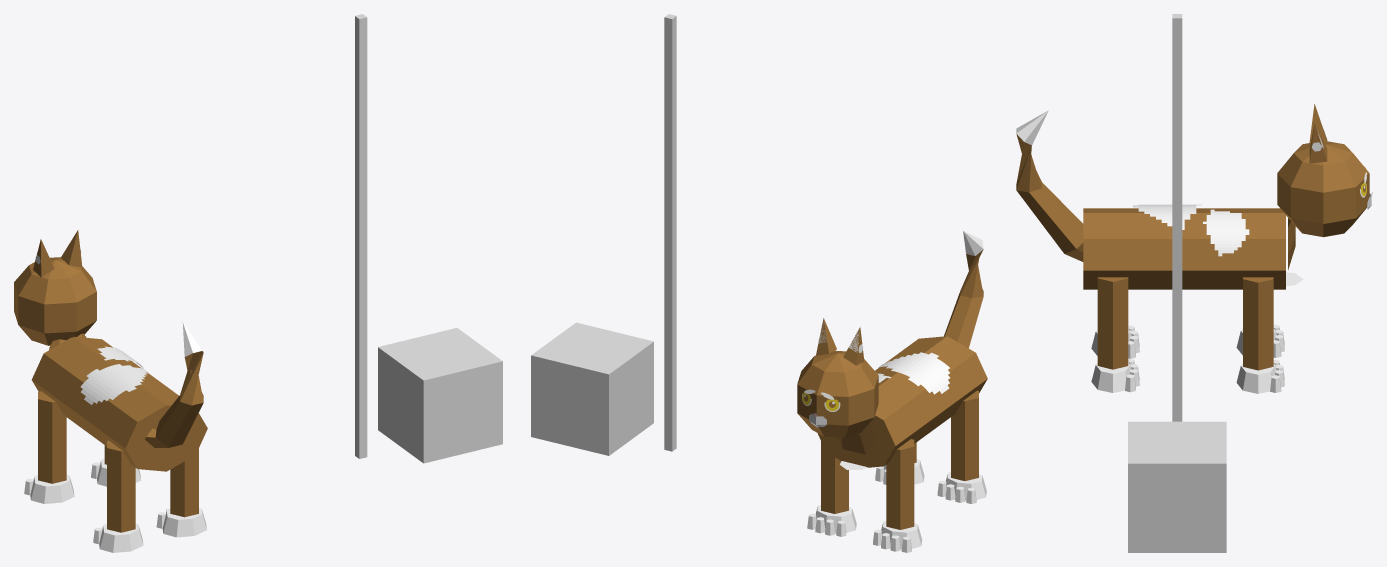
File: cat-brown_LOD0_roblox.fbx
3 views of the same model, side by side, from view 1: azimuth 30°, elevation 25°; view 2: azimuth 150°, elevation 25°; view 3: azimuth 270°, elevation 25° (orthographic). The views are drawn at different scales.
Visible parts, largest first — view 1: 1_Stud_Cube, Cat_BlackMat_body, 5.3_Stud_Height_Ruler, Cat_BlackMat_head, Cat_BlackMat_frontL_leg, Cat_BlackMat_backL_leg, Cat_BlackMat_tail, Cat_WhiteMat_spot_1, Cat_BlackMat_backR_leg, Cat_WhiteMat_backL_paw, Cat_WhiteMat_backR_paw, Cat_WhiteMat_frontL_paw; view 2: 1_Stud_Cube, Cat_BlackMat_body, 5.3_Stud_Height_Ruler, Cat_BlackMat_head, Cat_BlackMat_frontL_leg, Cat_BlackMat_backL_leg, Cat_BlackMat_tail, Cat_WhiteMat_spot_1, Cat_BlackMat_frontR_leg, Cat_WhiteMat_frontR_paw, Cat_WhiteMat_backL_paw, Cat_WhiteMat_frontL_paw (+1 smaller); view 3: Cat_BlackMat_body, 1_Stud_Cube, Cat_BlackMat_head, 5.3_Stud_Height_Ruler, Cat_BlackMat_tail, Cat_BlackMat_backR_leg, Cat_BlackMat_frontR_leg, Cat_WhiteMat_spot_2, Cat_WhiteMat_frontR_paw, Cat_WhiteMat_backR_paw, Cat_WhiteMat_spot_1, Cat_WhiteMat_tailTip (+3 smaller).
Boxes of the visible parts, x1,y1,x2,y2 form: 1_Stud_Cube: (378, 328, 502, 463); Cat_BlackMat_body: (31, 337, 207, 471); 5.3_Stud_Height_Ruler: (355, 14, 367, 458); Cat_BlackMat_head: (14, 257, 96, 345); Cat_BlackMat_frontL_leg: (38, 391, 66, 483); Cat_BlackMat_backL_leg: (107, 440, 135, 532); Cat_BlackMat_tail: (155, 351, 203, 447); Cat_WhiteMat_spot_1: (80, 364, 148, 404); Cat_BlackMat_backR_leg: (170, 448, 198, 517); Cat_WhiteMat_backL_paw: (93, 523, 143, 552); Cat_WhiteMat_backR_paw: (156, 508, 206, 537); Cat_WhiteMat_frontL_paw: (24, 474, 74, 503); 1_Stud_Cube: (531, 322, 653, 455); Cat_BlackMat_body: (817, 336, 987, 467); 5.3_Stud_Height_Ruler: (664, 14, 676, 451); Cat_BlackMat_head: (797, 350, 878, 437); Cat_BlackMat_frontL_leg: (886, 439, 914, 529); Cat_BlackMat_backL_leg: (951, 390, 978, 480); Cat_BlackMat_tail: (944, 249, 983, 348); Cat_WhiteMat_spot_1: (878, 352, 949, 394); Cat_BlackMat_frontR_leg: (821, 441, 848, 513); Cat_WhiteMat_frontR_paw: (807, 505, 856, 536); Cat_WhiteMat_backL_paw: (937, 472, 986, 503); Cat_WhiteMat_frontL_paw: (873, 521, 922, 552); Cat_BlackMat_body: (1083, 208, 1285, 289); 1_Stud_Cube: (1128, 421, 1226, 552); Cat_BlackMat_head: (1277, 141, 1369, 237); 5.3_Stud_Height_Ruler: (1172, 14, 1182, 421); Cat_BlackMat_tail: (1016, 134, 1083, 253); Cat_BlackMat_backR_leg: (1097, 277, 1128, 369); Cat_BlackMat_frontR_leg: (1243, 277, 1273, 370); Cat_WhiteMat_spot_2: (1203, 209, 1249, 256); Cat_WhiteMat_frontR_paw: (1236, 359, 1284, 393); Cat_WhiteMat_backR_paw: (1091, 359, 1139, 392); Cat_WhiteMat_spot_1: (1133, 204, 1201, 229); Cat_WhiteMat_tailTip: (1016, 110, 1048, 145).
Bounding box in the file's own units: 5.19 × 3.61 × 5.3.
